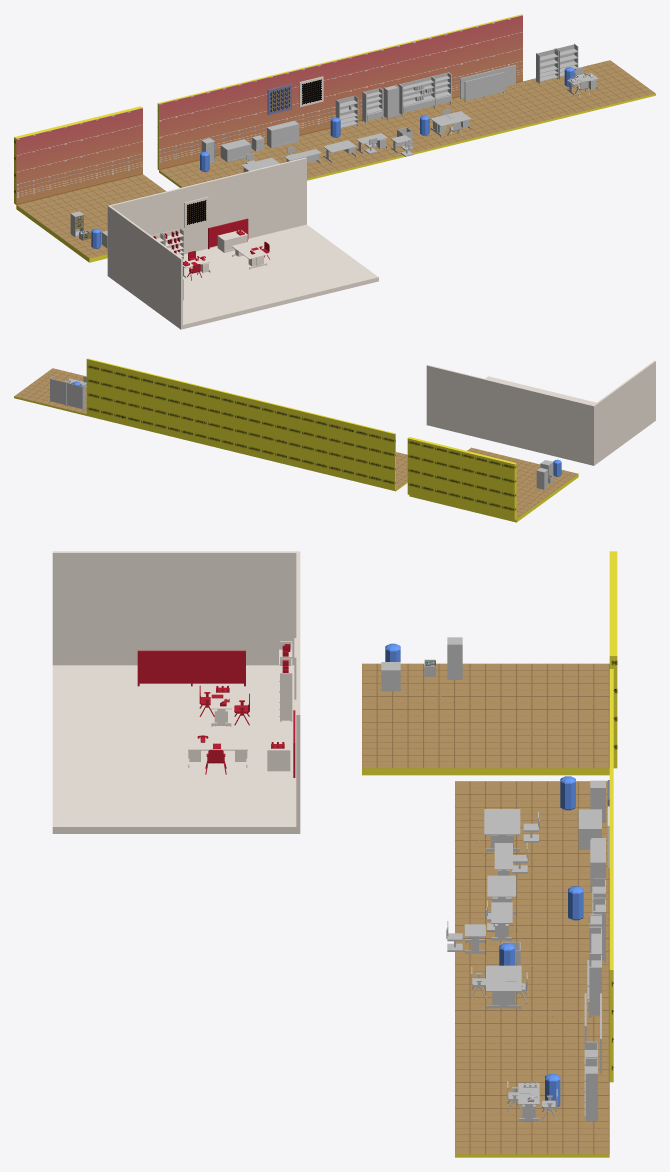
The model's file is zoo_map.obj.
3 renders of one model, top to bottom at view 1: azimuth 30°, elevation 25°; view 2: azimuth 150°, elevation 25°; view 3: azimuth 270°, elevation 25°, orthographic. The views are drawn at different scales.
Parts seen in each view (by area): view 1: entity0_brush5, entity0_brush4, entity0_brush44, entity0_brush45, entity0_brush1, entity0_brush71, entity0_brush0, entity7_brush0, entity0_brush39, entity0_brush42, entity0_brush46, entity39_brush0 (+1 smaller); view 2: entity0_brush5, entity0_brush45, entity0_brush1, entity0_brush71, entity0_brush0, entity0_brush4, entity0_brush44, entity31_brush2, entity32_brush2; view 3: entity0_brush4, entity0_brush44, entity0_brush0, entity0_brush71, entity40_brush2, entity0_brush5, entity0_brush1, entity0_brush45, entity8_brush0, entity24_brush0, entity50_brush0.
Boxes of the visible parts, x1,y1,x2,y2 form: entity0_brush5: [157, 14, 522, 169]; entity0_brush4: [159, 60, 655, 187]; entity0_brush44: [107, 224, 378, 329]; entity0_brush45: [107, 157, 306, 272]; entity0_brush1: [14, 106, 142, 204]; entity0_brush71: [109, 206, 182, 325]; entity0_brush0: [16, 174, 165, 262]; entity7_brush0: [464, 72, 504, 99]; entity0_brush39: [267, 84, 291, 114]; entity0_brush42: [299, 76, 323, 107]; entity0_brush46: [184, 197, 208, 227]; entity39_brush0: [208, 218, 248, 246]; entity0_brush5: [86, 358, 395, 490]; entity0_brush45: [426, 365, 594, 462]; entity0_brush1: [407, 437, 516, 520]; entity0_brush71: [593, 360, 655, 461]; entity0_brush0: [409, 447, 578, 522]; entity0_brush4: [14, 368, 407, 491]; entity0_brush44: [426, 376, 655, 465]; entity31_brush2: [50, 378, 65, 404]; entity32_brush2: [67, 383, 82, 408]; entity0_brush4: [455, 781, 609, 1157]; entity0_brush44: [52, 665, 300, 833]; entity0_brush0: [362, 663, 609, 775]; entity0_brush71: [52, 551, 296, 665]; entity40_brush2: [137, 650, 245, 681]; entity0_brush5: [609, 669, 613, 1082]; entity0_brush1: [609, 551, 617, 768]; entity0_brush45: [296, 551, 300, 826]; entity8_brush0: [484, 809, 520, 835]; entity24_brush0: [486, 965, 521, 991]; entity50_brush0: [188, 734, 247, 750].
Size of the model in its own units: 2400 by 272 by 1168.
